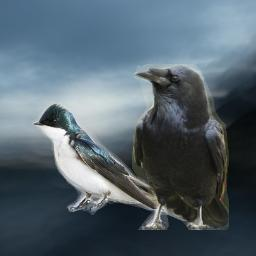Crow: (132, 64, 229, 230)
Swallow: (31, 101, 180, 215)
